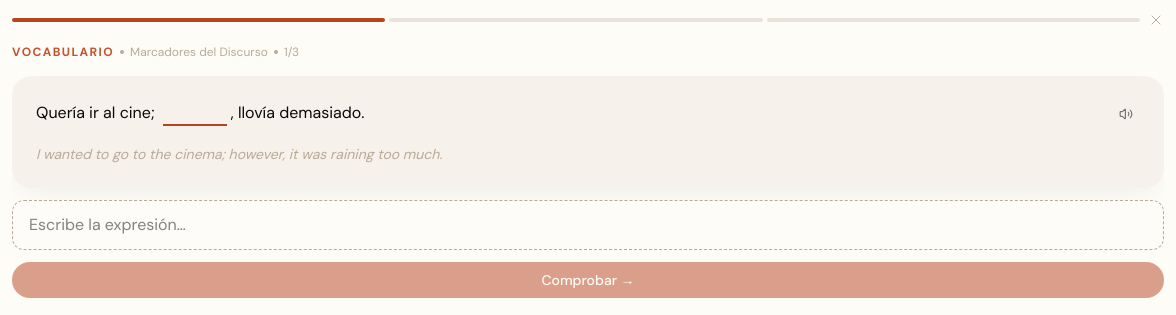
Test: VocabSession › auto-advances to next item after correct answer
The width and height of the screenshot is (1176, 315).
In the field with placeholder "Escribe la expresión…": {"x": 588, "y": 225} [29,213,1147,237], type "sin embargo"
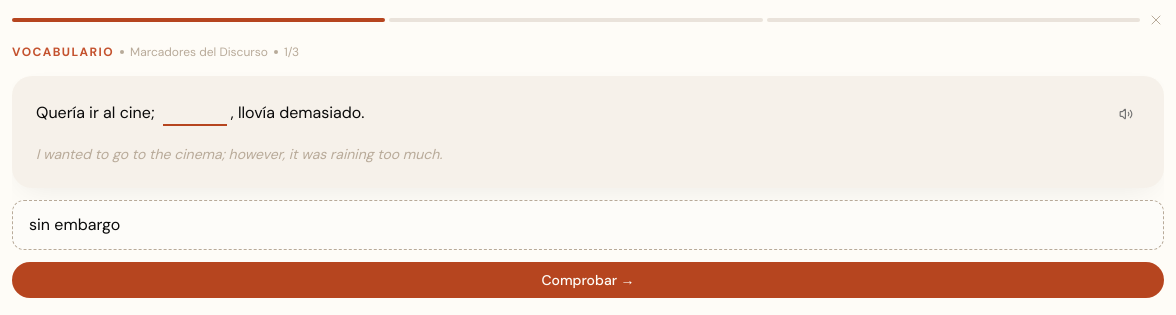
Click the button "Comprobar →": {"x": 588, "y": 280} [12,262,1164,298]
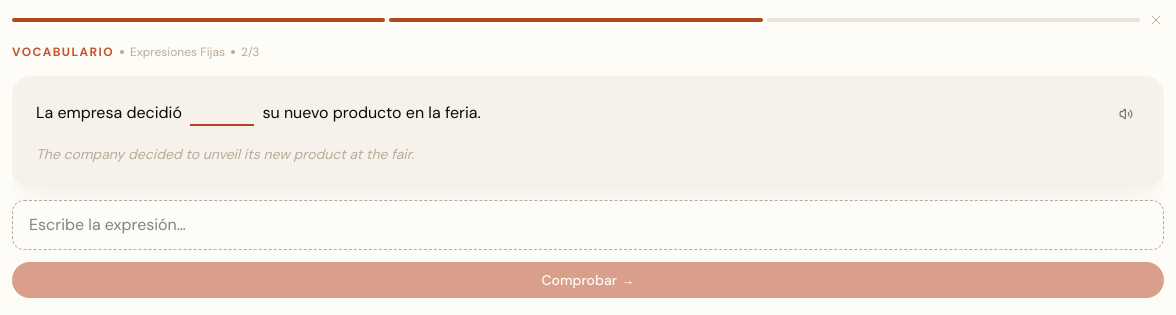
Check: the text "La empresa decidió su nuevo producto en la feria." is shown, box [36,102,481,126]
Check: the text "2/3" is shown, box [241,44,259,60]
